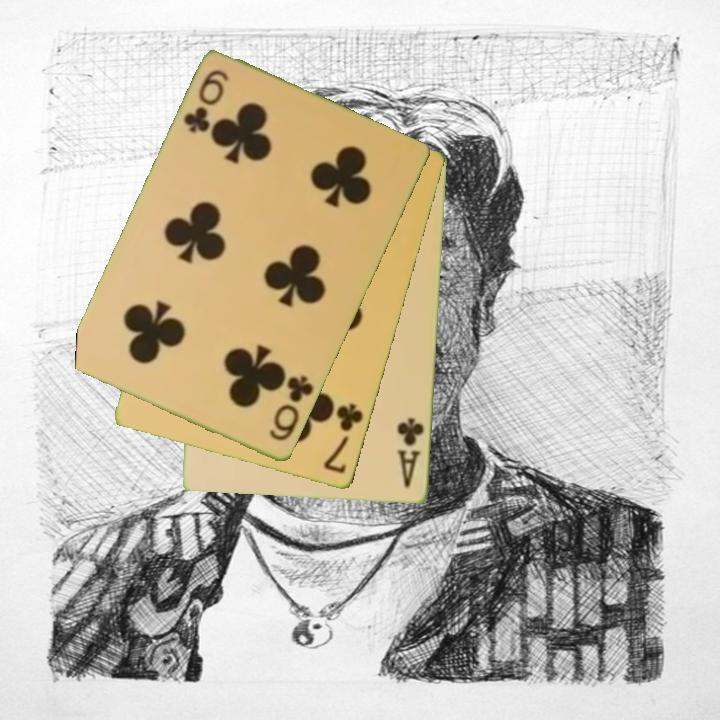6c: (265, 372, 317, 445), (180, 66, 232, 137)
7c: (320, 400, 367, 477)
Ac: (394, 415, 427, 491)
